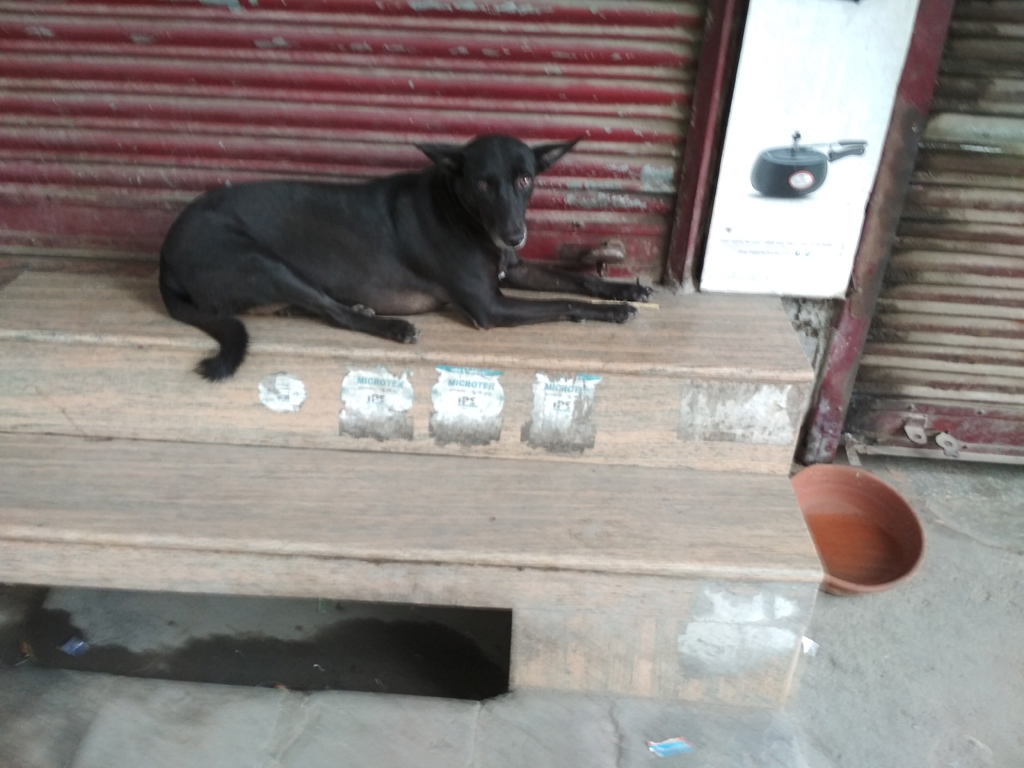dog: (159, 131, 652, 381)
